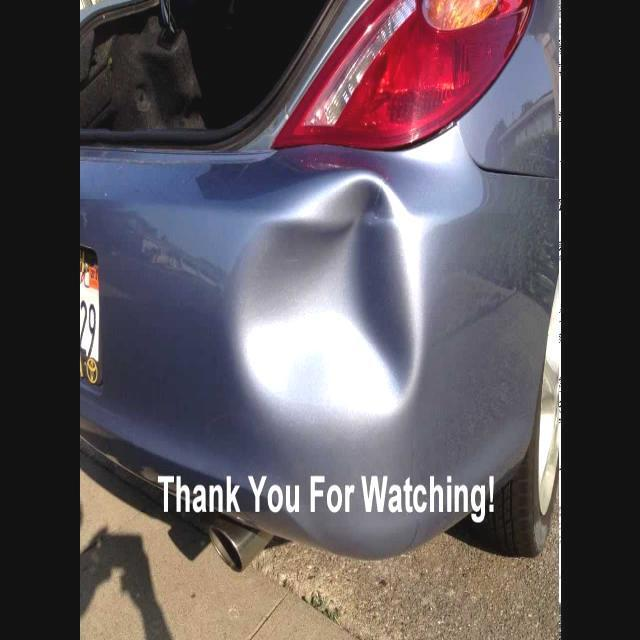minor: (205, 160, 444, 468)
